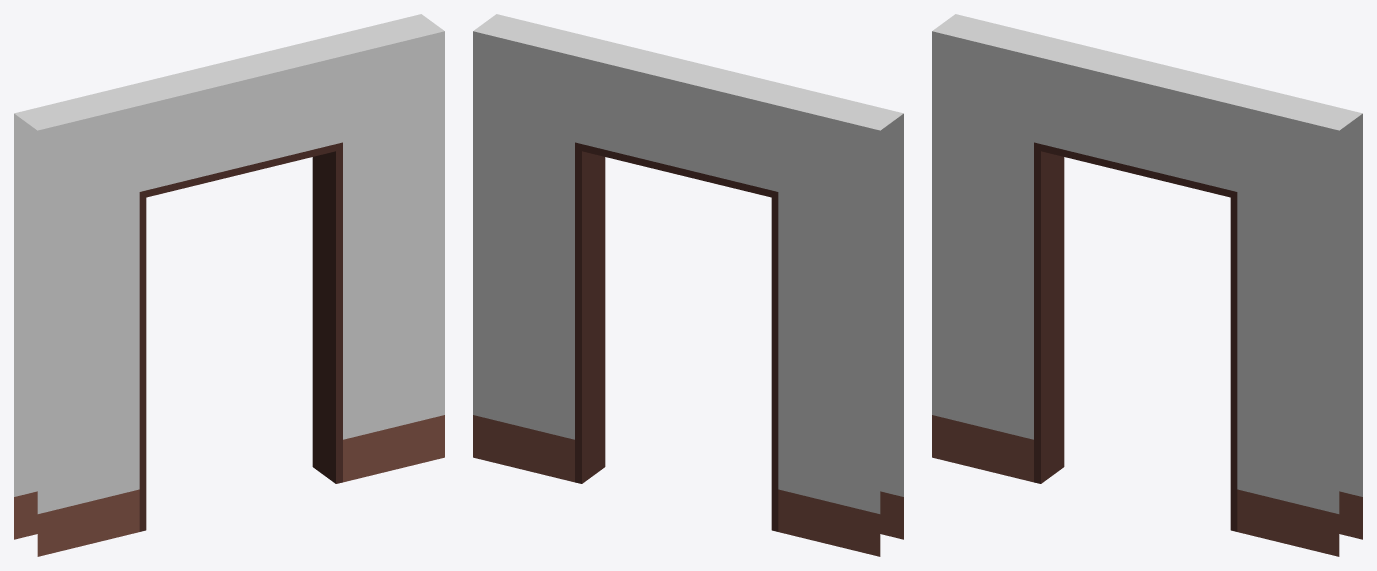
Rendered from Wall_door.fbx.
3 renders of one model, left to right at view 1: azimuth 30°, elevation 25°; view 2: azimuth 150°, elevation 25°; view 3: azimuth 330°, elevation 25°, orthographic.
Visible parts, largest first — view 1: Wall_Door; view 2: Wall_Door; view 3: Wall_Door.
Boxes of the visible parts, left/top/right/bottom form: Wall_Door: left=14, top=14, right=444, bottom=556; Wall_Door: left=473, top=14, right=903, bottom=556; Wall_Door: left=932, top=14, right=1362, bottom=556.
Size of the model in its own units: 200 by 200 by 20.
